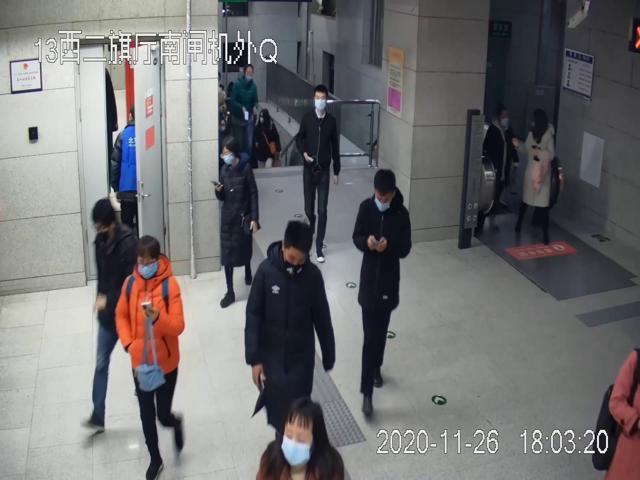person: (113, 231, 189, 479), (242, 219, 336, 394), (351, 164, 413, 419), (208, 135, 262, 309), (294, 82, 343, 262), (519, 102, 559, 246)
